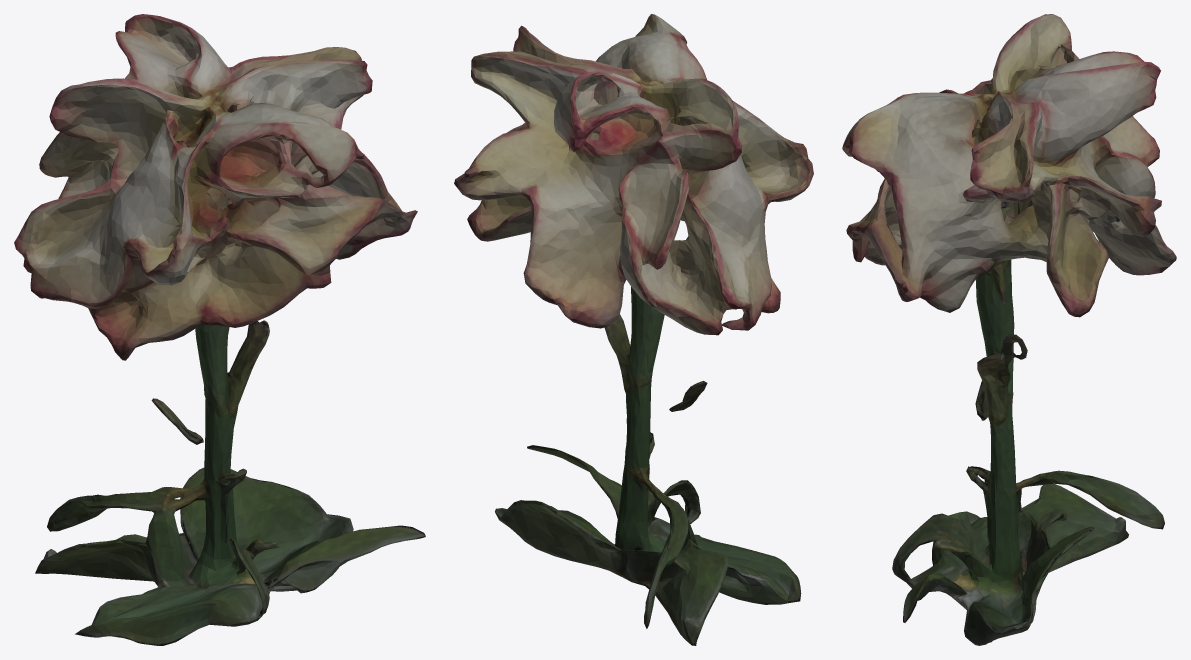
The picture shows the model from 3 angles, left to right: view 1: azimuth 30°, elevation 25°; view 2: azimuth 150°, elevation 25°; view 3: azimuth 270°, elevation 25°; orthographic projection.
Parts seen in each view (by area): view 1: world; view 2: world; view 3: world.
Boxes of the visible parts, left/top/right/bottom form: world: left=14, top=14, right=425, bottom=645; world: left=454, top=14, right=813, bottom=645; world: left=842, top=14, right=1176, bottom=645.
Size of the model in its own units: 0.5756 by 0.9426 by 0.5277.
Materials: 1 (1 with a texture image).
